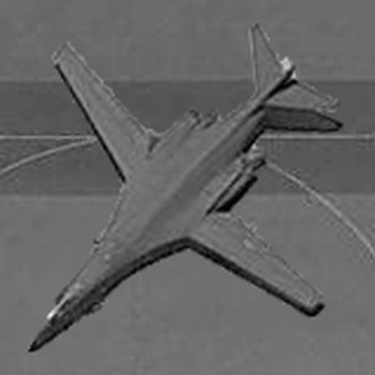airplane: (14, 16, 355, 357)
